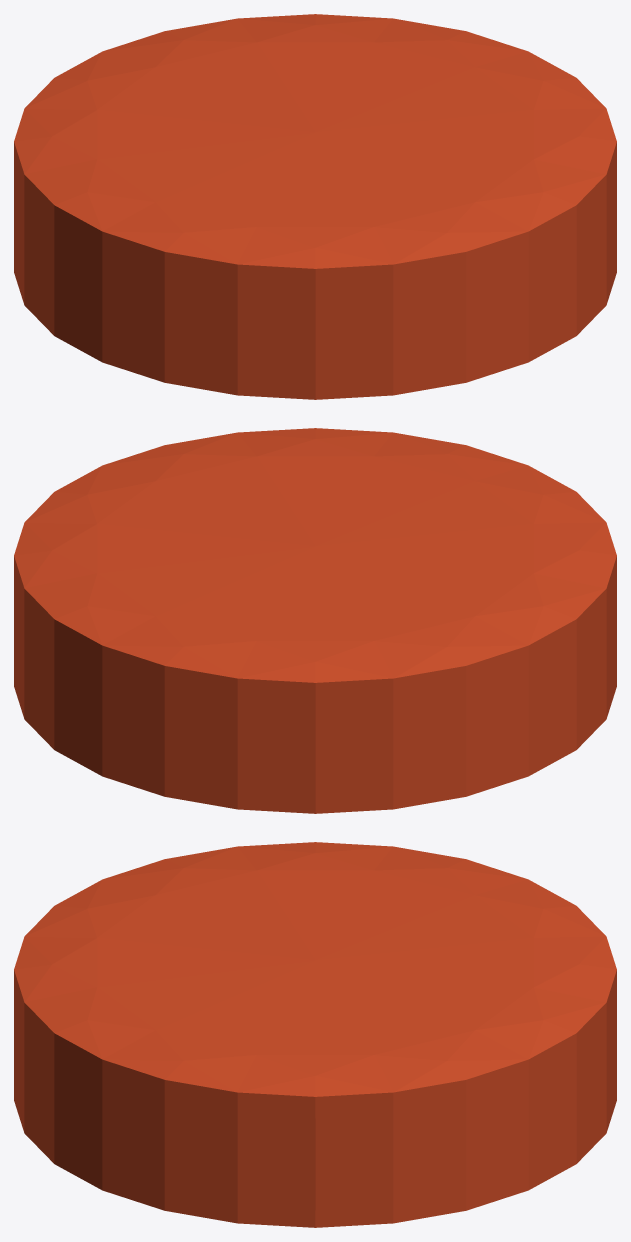
Rendered from Base_cilindro.dae.
The picture shows the model from 3 angles, top to bottom: view 1: azimuth 30°, elevation 25°; view 2: azimuth 150°, elevation 25°; view 3: azimuth 270°, elevation 25°; orthographic projection.
Parts seen in each view (by area): view 1: node0.001; view 2: node0.001; view 3: node0.001.
Boxes of the visible parts, bbox=[...] form: node0.001: bbox=[14, 14, 616, 399]; node0.001: bbox=[14, 428, 616, 813]; node0.001: bbox=[14, 842, 616, 1227].
Size of the model in its own units: 2.4 by 2.4 by 0.6318.
